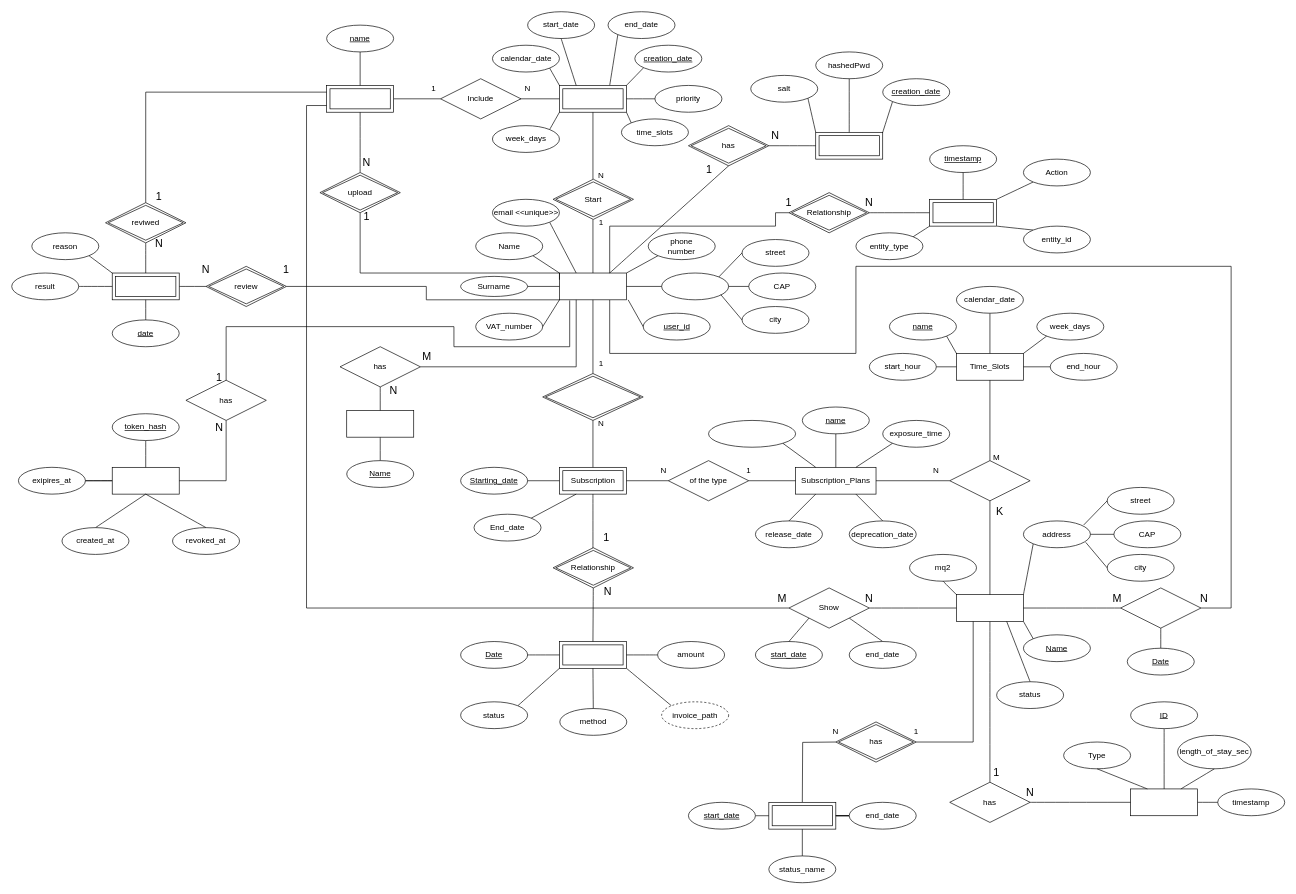
The diagram is 1296 pixels wide and 894 high, and some of its shapes have lost their labels. Each missing label, with the centre of its shape:
adress: [695,286]
Audit_Log: [963,212]
billboard: [989,607]
billboard_status: [802,815]
Campaing: [592,98]
Credential: [849,145]
Media_Obj: [360,98]
Media_Review: [145,286]
Override scheduling: [1160,607]
Payment: [592,654]
Role: [380,423]
runned_on: [989,480]
scheduling_priority: [752,433]
Sessions: [145,480]
Subscribe: [592,396]
Traffic_Detection: [1164,802]
User: [592,286]
